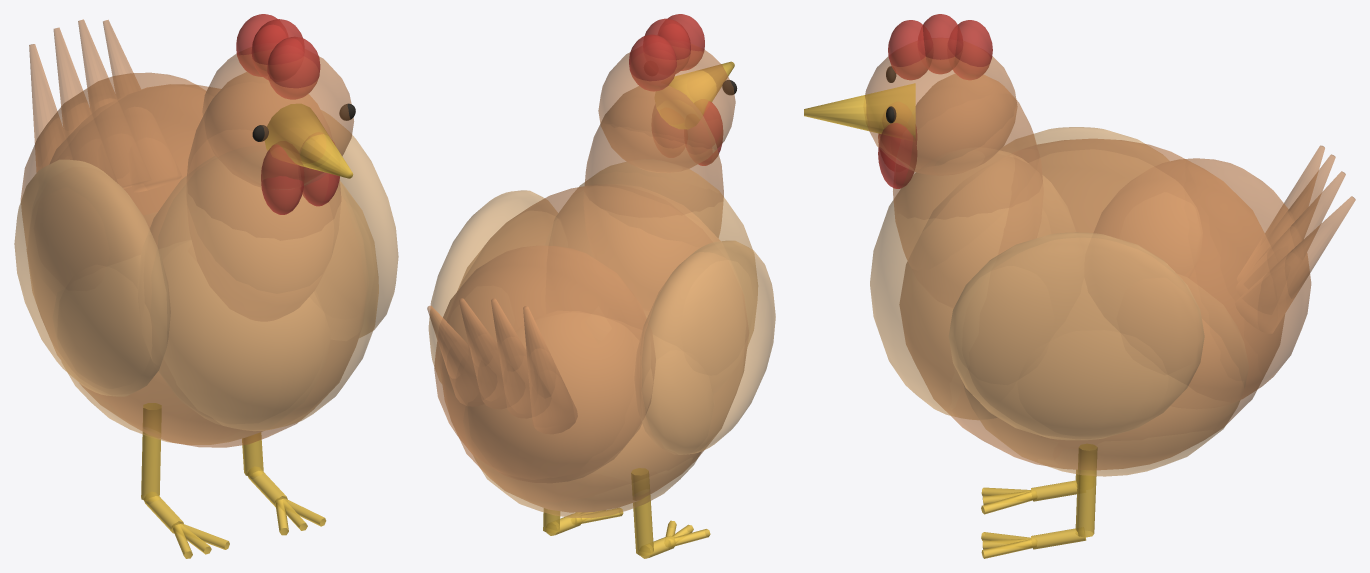
The picture shows the model from 3 angles, left to right: view 1: azimuth 30°, elevation 25°; view 2: azimuth 150°, elevation 25°; view 3: azimuth 270°, elevation 25°; orthographic projection. The views are drawn at different scales.
Visible parts, largest first — view 1: Exterior_Body, Exterior_Chest, Exterior_Wing_L, Exterior_Neck, Exterior_Rump, Exterior_Head, Exterior_Wing_R, Exterior_Belly, Exterior_Beak, Exterior_Comb_0, Exterior_Tail_0, Exterior_Wattle_L (+11 smaller); view 2: Exterior_Body, Exterior_Rump, Exterior_Wing_L, Exterior_Neck, Exterior_Chest, Exterior_Head, Exterior_Belly, Exterior_Wing_R, Exterior_Tail_0, Exterior_Beak, Exterior_Tail_1, Exterior_Tail_2 (+9 smaller); view 3: Exterior_Body, Exterior_Wing_R, Exterior_Rump, Exterior_Chest, Exterior_Neck, Exterior_Head, Exterior_Belly, Exterior_Wing_L, Exterior_Tail_3, Exterior_Beak, Exterior_Tail_2, Exterior_Comb_2 (+8 smaller).
Boxes of the visible parts, <box> form: Exterior_Body: <box>27,84,365,447</box>; Exterior_Chest: <box>138,156,378,430</box>; Exterior_Wing_L: <box>14,159,170,396</box>; Exterior_Neck: <box>186,72,341,321</box>; Exterior_Rump: <box>20,72,205,245</box>; Exterior_Head: <box>202,47,353,187</box>; Exterior_Wing_R: <box>321,110,398,337</box>; Exterior_Belly: <box>62,212,262,444</box>; Exterior_Beak: <box>265,103,353,178</box>; Exterior_Comb_0: <box>267,36,320,99</box>; Exterior_Tail_0: <box>29,44,66,172</box>; Exterior_Wattle_L: <box>261,144,304,214</box>; Exterior_Body: <box>439,184,748,512</box>; Exterior_Rump: <box>434,246,655,482</box>; Exterior_Wing_L: <box>634,240,775,454</box>; Exterior_Neck: <box>583,86,723,310</box>; Exterior_Chest: <box>545,159,757,343</box>; Exterior_Head: <box>598,44,735,172</box>; Exterior_Belly: <box>473,315,712,518</box>; Exterior_Wing_R: <box>428,190,567,382</box>; Exterior_Tail_0: <box>523,306,577,433</box>; Exterior_Beak: <box>655,61,734,129</box>; Exterior_Tail_1: <box>491,298,531,418</box>; Exterior_Tail_2: <box>459,298,506,408</box>; Exterior_Body: <box>899,138,1284,469</box>; Exterior_Wing_R: <box>948,232,1204,440</box>; Exterior_Rump: <box>1093,158,1311,408</box>; Exterior_Chest: <box>870,150,1075,419</box>; Exterior_Neck: <box>893,73,1043,307</box>; Exterior_Head: <box>864,39,1017,175</box>; Exterior_Belly: <box>964,274,1248,476</box>; Exterior_Wing_L: <box>1000,127,1168,232</box>; Exterior_Tail_3: <box>1235,196,1355,333</box>; Exterior_Beak: <box>804,83,915,139</box>; Exterior_Tail_2: <box>1236,171,1345,296</box>; Exterior_Comb_2: <box>947,20,992,80</box>.
Bounding box in the file's own units: 2.06 × 3.43 × 3.36.
